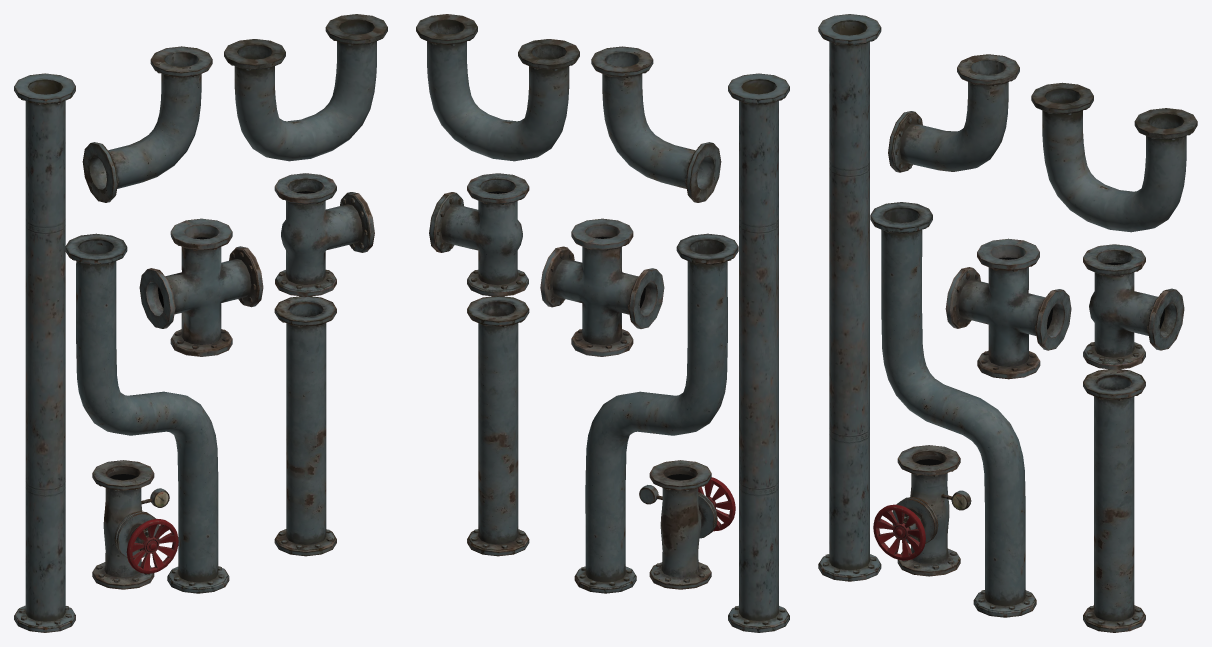
Rendered from modular_industrial_pipes_01.glb.
The picture shows the model from 3 angles, left to right: view 1: azimuth 30°, elevation 25°; view 2: azimuth 150°, elevation 25°; view 3: azimuth 330°, elevation 25°; orthographic projection.
Parts seen in each view (by area): view 1: modular_industrial_pipes_01_pipe01, modular_industrial_pipes_01_pipe05; view 2: modular_industrial_pipes_01_pipe01, modular_industrial_pipes_01_pipe05; view 3: modular_industrial_pipes_01_pipe01, modular_industrial_pipes_01_pipe05.
Part boxes in pixels (left/top/right/bottom): modular_industrial_pipes_01_pipe01: left=14, top=46, right=336, bottom=632; modular_industrial_pipes_01_pipe05: left=92, top=14, right=387, bottom=589; modular_industrial_pipes_01_pipe01: left=467, top=46, right=789, bottom=632; modular_industrial_pipes_01_pipe05: left=416, top=14, right=735, bottom=589; modular_industrial_pipes_01_pipe01: left=818, top=14, right=1145, bottom=632; modular_industrial_pipes_01_pipe05: left=873, top=82, right=1197, bottom=576.
Bounding box in the file's own units: 1.4 × 1.95 × 0.3076.
2 materials, 2 textured.
